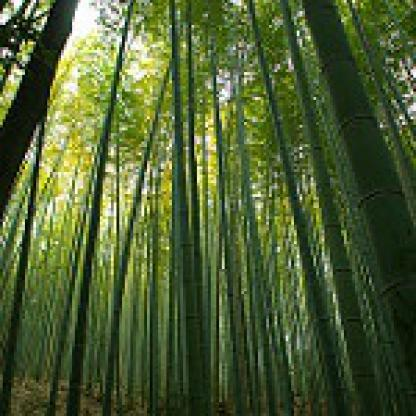trunk: (300, 0, 413, 413), (274, 0, 386, 413), (244, 0, 352, 413), (66, 0, 138, 413), (164, 0, 214, 413), (0, 122, 53, 413)
